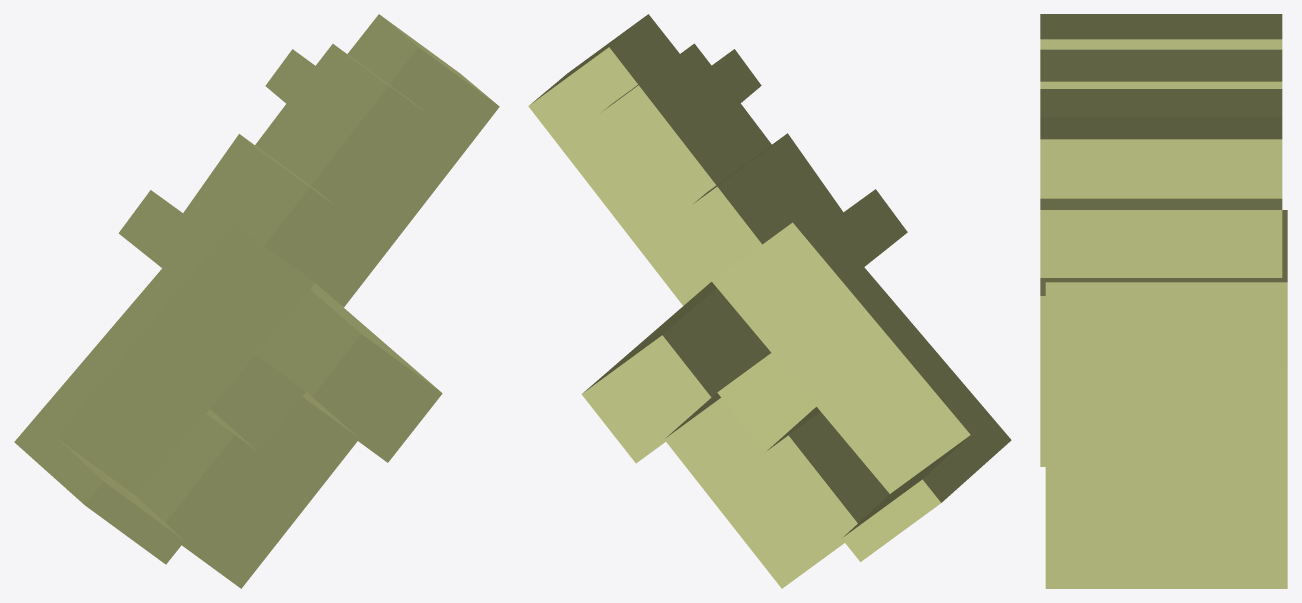
The picture shows the model from 3 angles, left to right: view 1: azimuth 30°, elevation 25°; view 2: azimuth 150°, elevation 25°; view 3: azimuth 270°, elevation 25°; orthographic projection. The views are drawn at different scales.
Visible parts, largest first — view 1: 0_0_1_2_0_0_0_0_1; view 2: 0_0_1_2_0_0_0_0_1; view 3: 0_0_1_2_0_0_0_0_1.
Part boxes in pixels (bbox=[...]): 0_0_1_2_0_0_0_0_1: bbox=[14, 14, 499, 588]; 0_0_1_2_0_0_0_0_1: bbox=[528, 14, 1011, 588]; 0_0_1_2_0_0_0_0_1: bbox=[1040, 14, 1287, 588].
Size of the model in its own units: 25.85 by 28.34 by 9.2.
